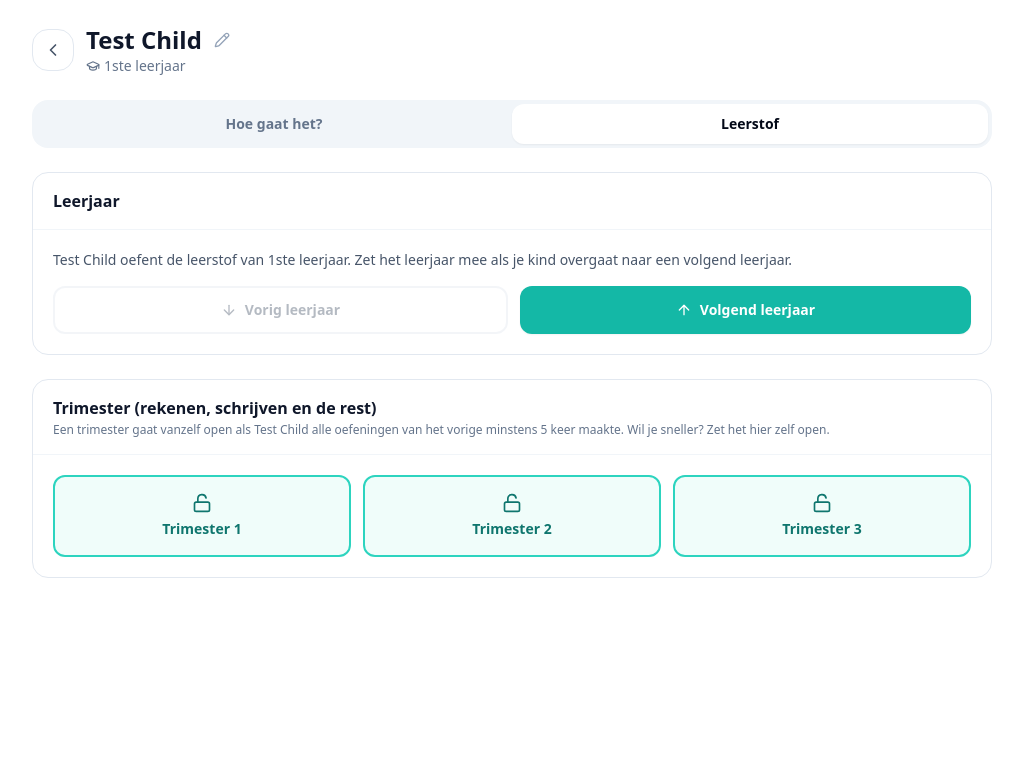
Test case: ParentChildDetail › promotes the child to the next grade and resets trimester access, after confirming the dialog
Later steps or results of the test are not shown.
expect the heading "Test Child" is shown: met, box [86,24,202,56]
Step 1. Click the button "Volgend leerjaar" → (746, 310), box [520,286,971,334]
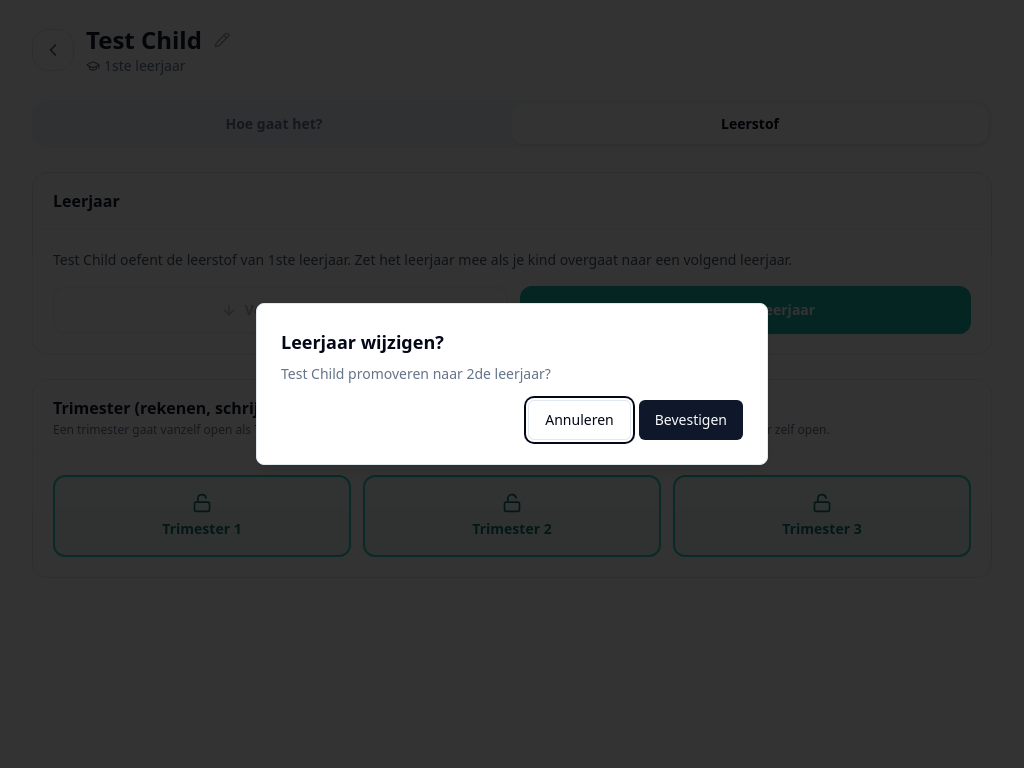
expect the heading "Leerjaar wijzigen?" is shown: met, box [281,330,444,354]
